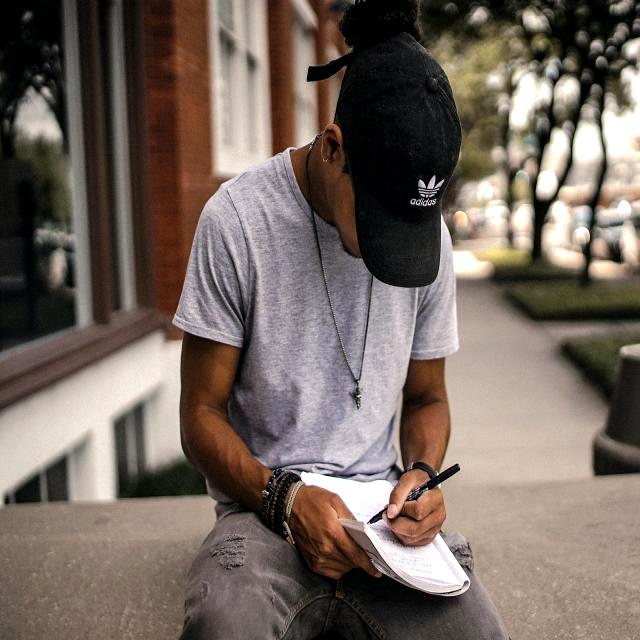no_hard_hat: (308, 32, 461, 287)
person: (176, 121, 507, 639)
